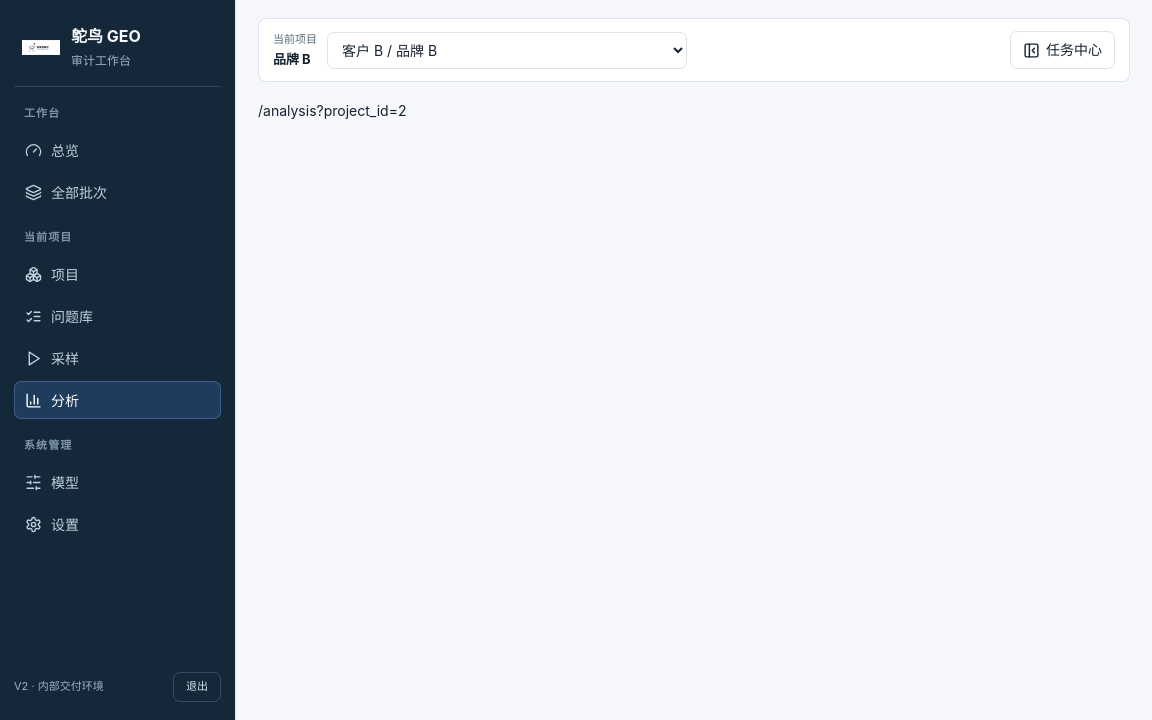
Test: project context › restores a deep-linked project and switches URL and store together
Select "客户 A / 品牌 A" in the dropdown named "切换当前项目" at coordinates (507, 50), box [327,32,687,69]
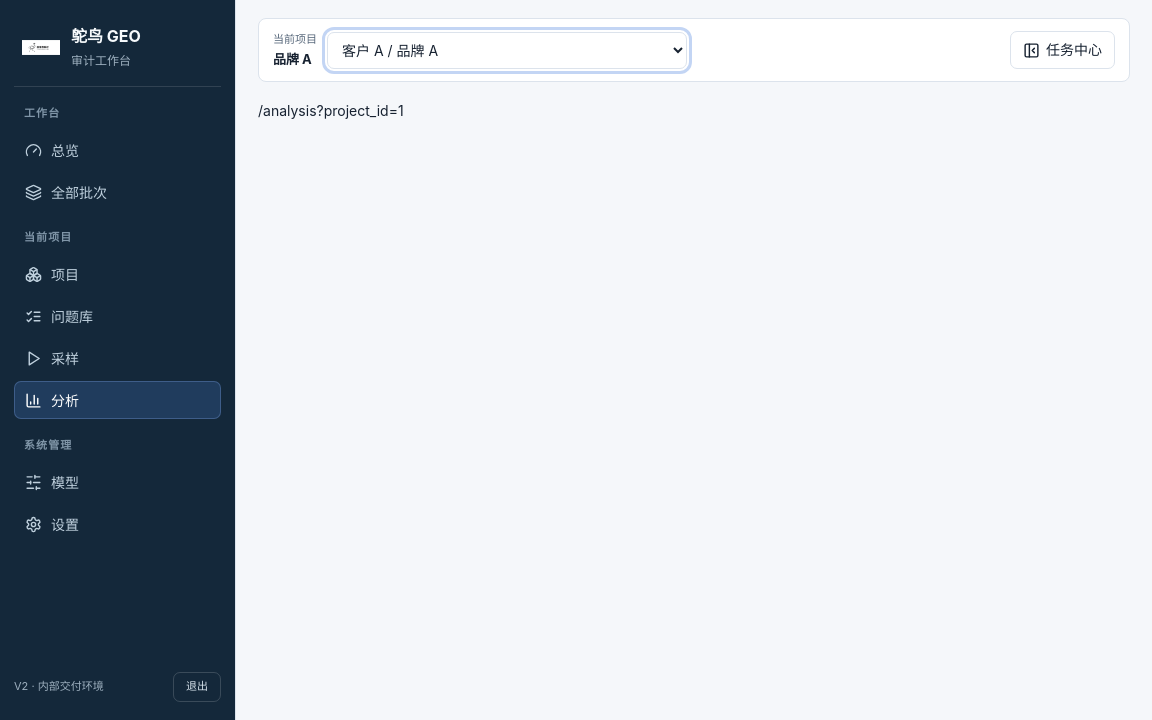
expect the text named "location" reads "/analysis?project_id=1": met, box [258,102,404,119]
